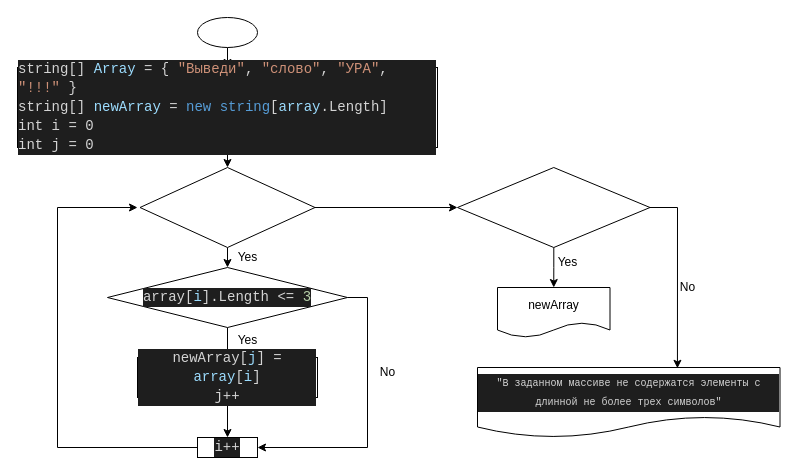
Some shapes in this 798 by 475 pixel diagram are drawn without their labels. The centre of each missing label's shape, as x and y in pixels:
"i < array .Length" belongs at point (227, 207).
"newArray[ 0 ] != null" belongs at point (553, 207).
"start" belongs at point (227, 32).
